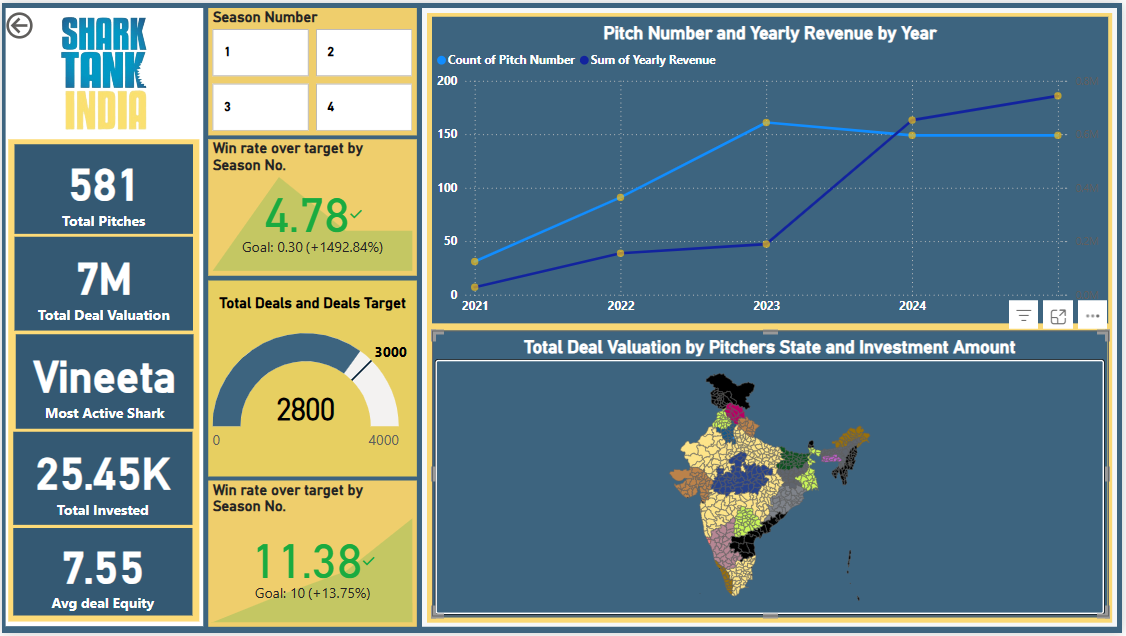

This screenshot's page, from the dashboard's own definition file:
{"tool":"powerbi","page":{"name":"Overview","canvas":[1280,720],"ordinal":0},"visuals":[{"type":"shape","box":[4.3,5.8,225.9,706.8],"z":0},{"type":"image","box":[28.6,5.7,175.7,145.7],"z":1000},{"type":"shape","box":[7.1,155.7,218.6,551.4],"z":2000},{"type":"card","fields":{"Values":["Shark Tank India (2).Total Deal Valuation"]},"box":[14.3,267.1,204.3,107.1],"z":3000},{"type":"card","fields":{"Values":["Shark Tank India (2).Total Pitches"]},"box":[14.4,161.6,204,102],"z":4000},{"type":"card","fields":{"Values":["Shark Tank India (2).Total Invested"]},"box":[13.3,490,205,106.7],"z":5000},{"type":"card","fields":{"Values":["Shark Tank India (2).Avg Equity Given"]},"box":[13.3,600,205,100],"z":6000},{"type":"advancedSlicerVisual","fields":{"Values":["Shark Tank India (2).Season Number"]},"box":[235.8,5.8,238.3,145.8],"z":7000},{"type":"kpi","title":"Win rate over target by Season No.","fields":{"Indicator":["Shark Tank India (2).Win rate"],"TrendLine":["Shark Tank India (2).Season Number"],"Goal":["Shark Tank India (2).Win rate target"]},"box":[235.7,155.7,238.6,155.7],"z":8000},{"type":"shape","box":[480,5.7,794.3,707.1],"z":9000},{"type":"shape","box":[486.2,10.8,783.1,696.9],"z":10000},{"type":"lineChart","title":"Pitch Number and Yearly Revenue by Year","fields":{"Y":["Shark Tank India (2).Pitch Number"],"Y2":["Shark Tank India (2).Yearly Revenue"],"Category":["Calendar.Year"]},"box":[491.2,16.2,772.5,350],"z":11000},{"type":"shapeMap","fields":{"Category":["Shark Tank India (2).Pitchers State"],"Series":["Shark Tank India (2).Investment Amount"],"Value":["Shark Tank India (2).Total Deal Valuation"]},"box":[492,374,772,328],"z":12000},{"type":"actionButton","box":[0,6,50,40],"z":13000},{"type":"gauge","fields":{"Y":["Shark Tank India (2).Total Deals"],"TargetValue":["Shark Tank India (2).Deals Target"]},"box":[235.7,317.1,238.6,224.3],"z":14000},{"type":"kpi","title":"Win rate over target by Season No.","fields":{"TrendLine":["Shark Tank India (2).Season Number"],"Goal":["Shark Tank India (2).Target Investment per deal"],"Indicator":["Shark Tank India (2).Avg investment per Deal"]},"box":[235.7,545.7,238.6,167.1],"z":15000},{"type":"card","fields":{"Values":["Shark Tank India (2).Most Active Shark"]},"box":[15,378.3,203.3,108.3],"z":16000}]}

Visuals, with their boxes in screenshot pixels (x1, y1, x2, y2), scaled from the page's 1280x720 canvas onto the 1126x636 screenshot:
shape: region(4, 5, 203, 629)
image: region(25, 5, 180, 134)
shape: region(6, 138, 199, 625)
card - Shark Tank India (2).Total Deal Valuation: region(13, 236, 192, 331)
card - Shark Tank India (2).Total Pitches: region(13, 143, 192, 233)
card - Shark Tank India (2).Total Invested: region(12, 433, 192, 527)
card - Shark Tank India (2).Avg Equity Given: region(12, 530, 192, 618)
advancedSlicerVisual - Shark Tank India (2).Season Number: region(207, 5, 417, 134)
"Win rate over target by Season No." kpi: region(207, 138, 417, 275)
shape: region(422, 5, 1121, 630)
shape: region(428, 10, 1117, 625)
"Pitch Number and Yearly Revenue by Year" lineChart: region(432, 14, 1112, 323)
shapeMap - Shark Tank India (2).Pitchers State x Shark Tank India (2).Investment Amount: region(433, 330, 1112, 620)
actionButton: region(0, 5, 44, 41)
gauge - Shark Tank India (2).Total Deals x Shark Tank India (2).Deals Target: region(207, 280, 417, 478)
"Win rate over target by Season No." kpi: region(207, 482, 417, 630)
card - Shark Tank India (2).Most Active Shark: region(13, 334, 192, 430)
